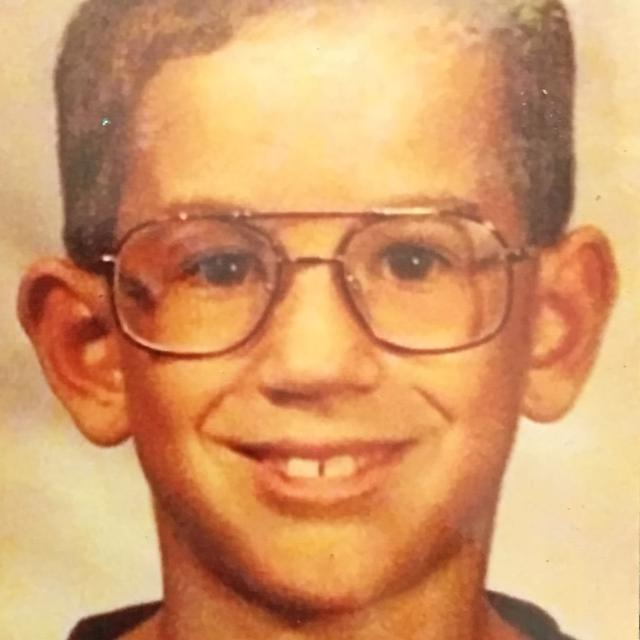Normal: (107, 5, 539, 609)
